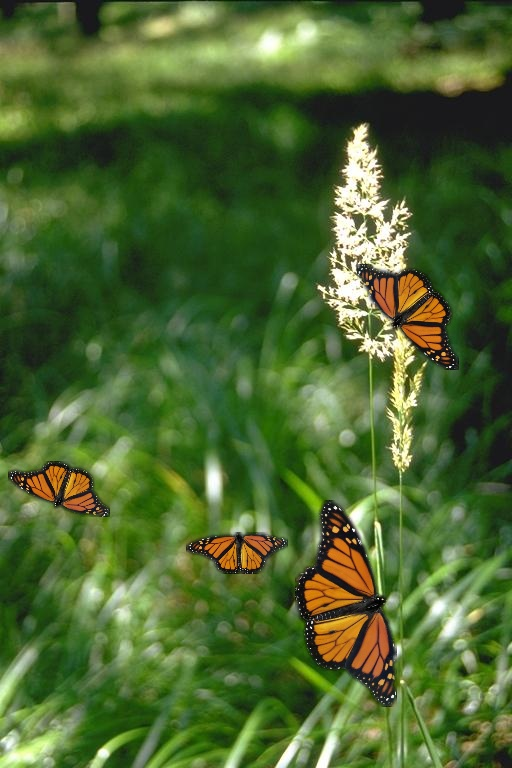danaus_plexippus: (295, 500, 397, 707), (357, 264, 459, 370), (8, 461, 110, 517), (186, 532, 288, 574)
